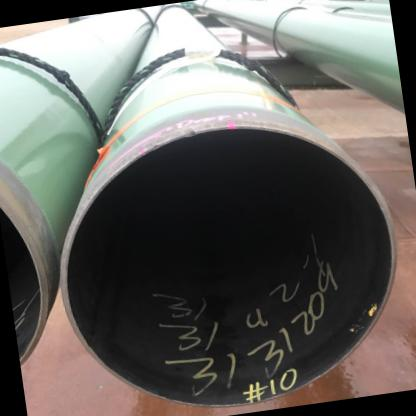Bevel: (178, 120, 200, 144), (148, 138, 164, 152)
